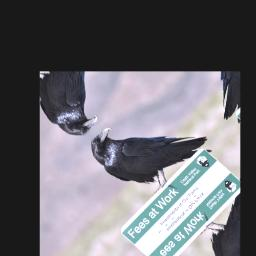Crow: (82, 83, 218, 213)
